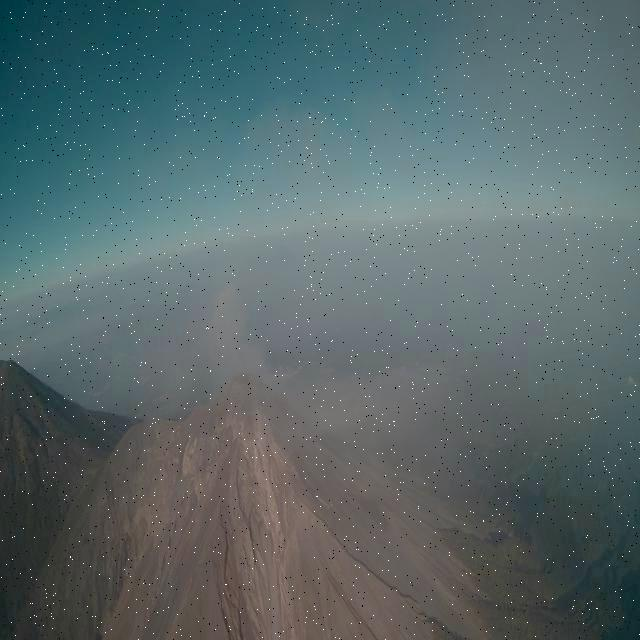Summit: (182, 367, 310, 485)
